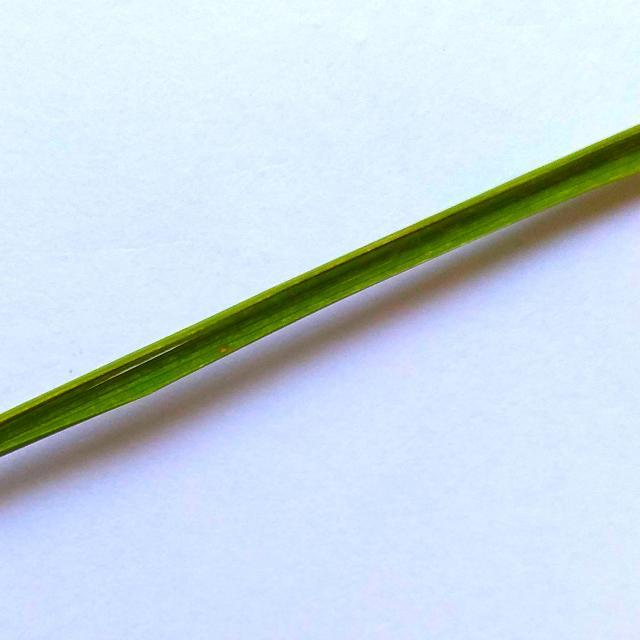Blast: (216, 342, 230, 353)
